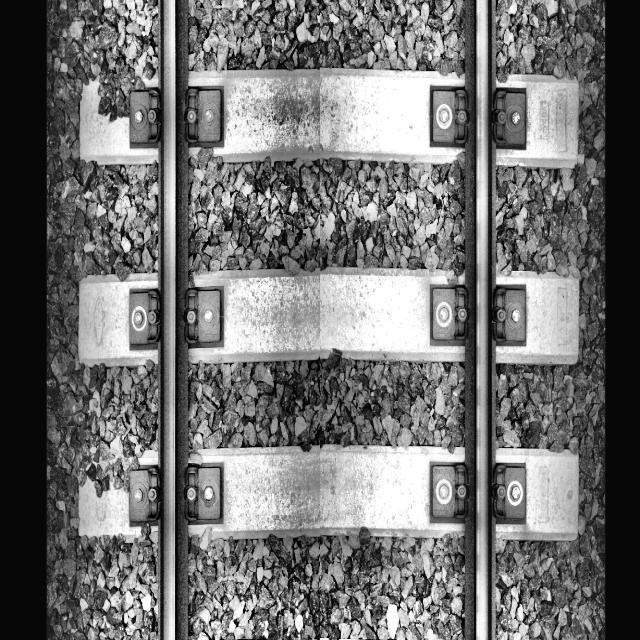Clips: (430, 86, 471, 147), (183, 464, 224, 523), (183, 87, 224, 146), (429, 460, 469, 520), (429, 284, 469, 344), (184, 288, 224, 347), (491, 88, 526, 147), (128, 88, 162, 148), (490, 464, 526, 520), (128, 467, 162, 525), (492, 284, 526, 342), (129, 290, 162, 348)
Sleepers: (80, 73, 580, 169), (81, 274, 580, 368), (78, 459, 578, 541)
